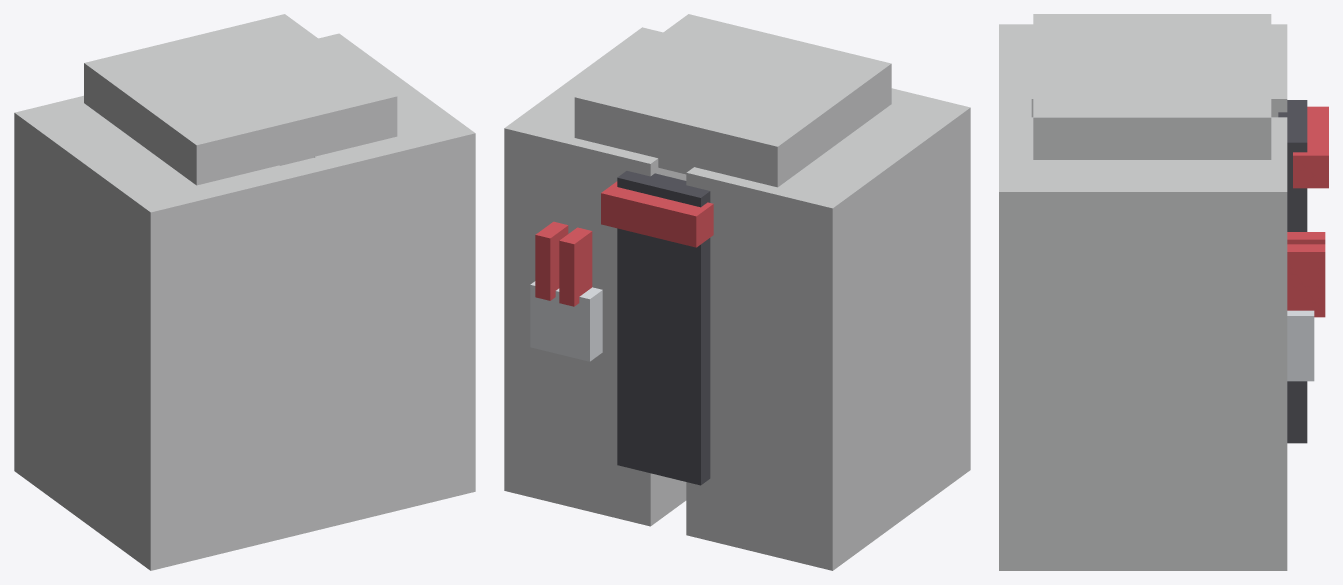
File: cientista_tronco.glb
The picture shows the model from 3 angles, left to right: view 1: azimuth 30°, elevation 25°; view 2: azimuth 150°, elevation 25°; view 3: azimuth 270°, elevation 25°; orthographic projection. The views are drawn at different scales.
Parts seen in each view (by area): view 1: cientista_tronco; view 2: cientista_tronco; view 3: cientista_tronco.
Boxes of the visible parts, <box> form: cientista_tronco: <box>14,14,475,570</box>; cientista_tronco: <box>504,14,970,570</box>; cientista_tronco: <box>999,14,1328,570</box>.
Size of the model in its own units: 0.55 by 0.645 by 0.4575.
